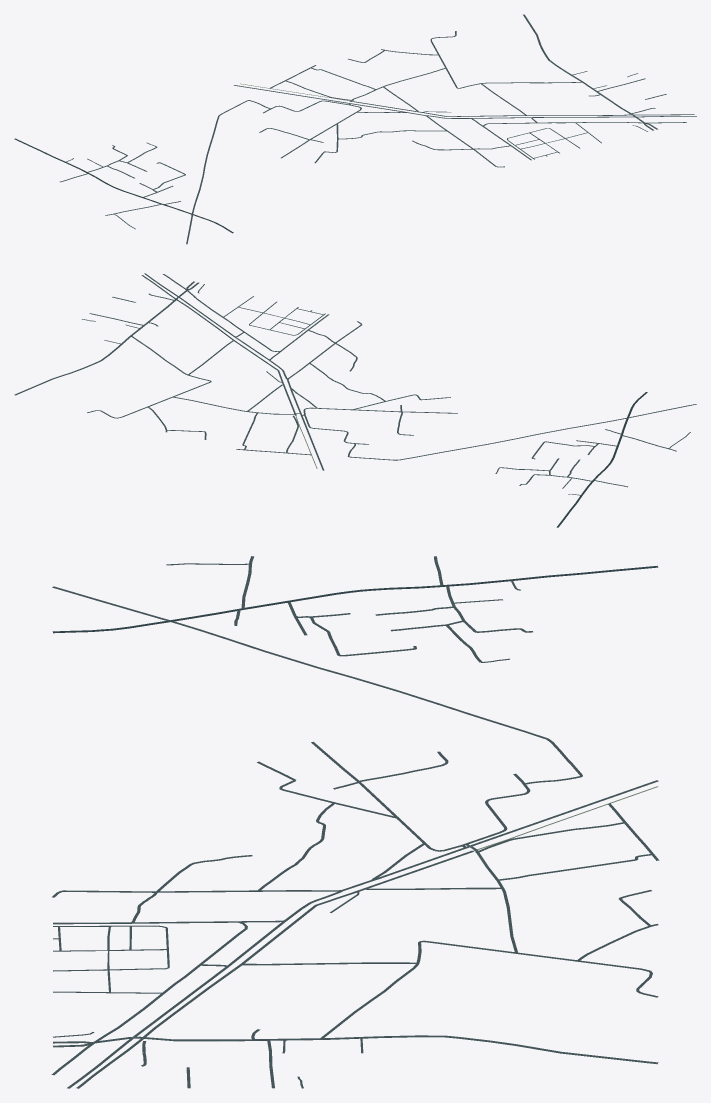
3 renders of one model, top to bottom at view 1: azimuth 30°, elevation 25°; view 2: azimuth 150°, elevation 25°; view 3: azimuth 270°, elevation 25°, orthographic. The views are drawn at different scales.
Parts seen in each view (by area): view 1: street, major; view 2: street; view 3: street, major.
Boxes of the visible parts, box(x1,y1,x2,y2) form: street: box(59, 14, 696, 244); major: box(14, 138, 233, 233); street: box(14, 273, 696, 495); street: box(51, 556, 659, 1088); major: box(52, 565, 658, 633).
Bounding box in the file's own units: 2002 × 6.22 × 966.
